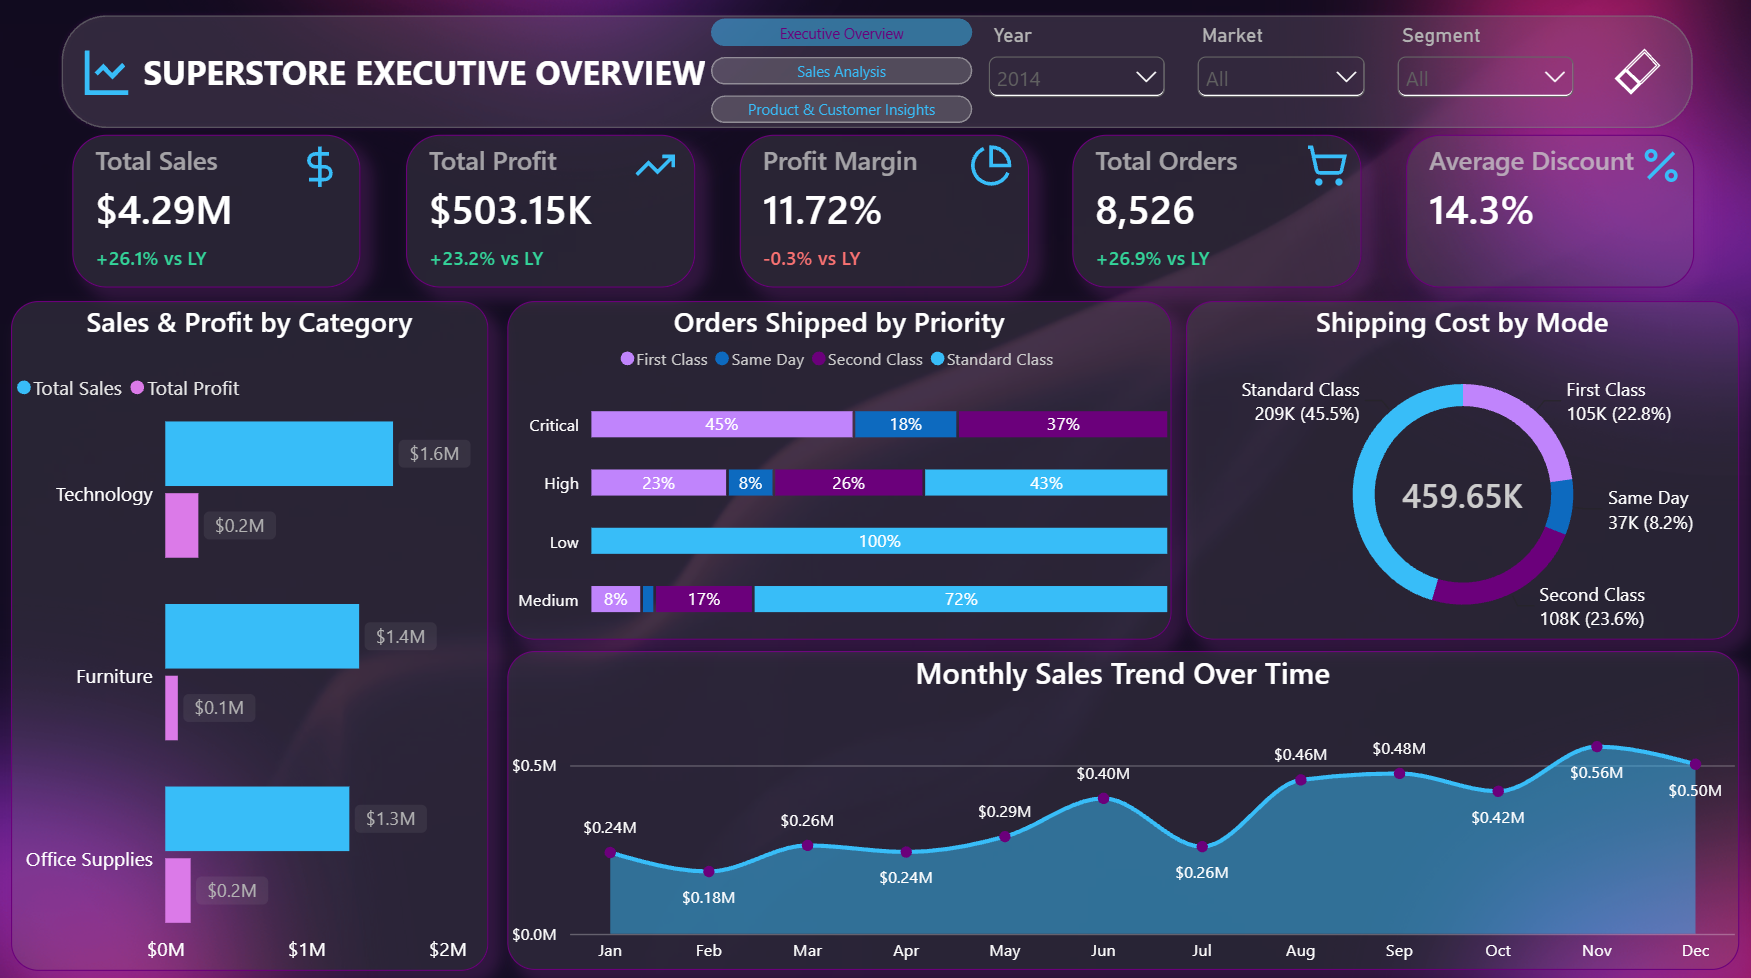

The page's visual inventory and layout, read from the dashboard file:
{"tool":"powerbi","page":{"name":"Executive Overview","canvas":[1280,720],"ordinal":0},"visuals":[{"type":"shape","box":[44.2,11,1192.6,88.3],"z":0},{"type":"cardVisual","fields":{"Data":["_Measures.Total Sales"]},"box":[55.7,100.9,209.2,111.1],"z":1000},{"type":"cardVisual","fields":{"Data":["_Measures.Total Profit"]},"box":[298.1,100.9,210.6,111.1],"z":2000},{"type":"cardVisual","fields":{"Data":["_Measures.Average Discount"]},"box":[1025.3,100.9,209.2,111.1],"z":3000},{"type":"cardVisual","fields":{"Data":["_Measures.Total Orders"]},"box":[782.9,100.9,210.6,111.1],"z":4000},{"type":"cardVisual","fields":{"Data":["_Measures.Profit Margin"]},"box":[540.5,100.9,210.6,111.1],"z":5000},{"type":"slicer","fields":{"Values":["Date_dim.Year"]},"box":[717.3,20.1,137.4,72.4],"z":6000},{"type":"slicer","fields":{"Values":["superstore_sales.market"]},"box":[868.8,20.1,131.3,72.4],"z":7000},{"type":"slicer","fields":{"Values":["superstore_sales.segment"]},"box":[1014.2,20.1,137.4,72.4],"z":8000},{"type":"areaChart","title":"Monthly Sales Trend Over Time","fields":{"Category":["Date_dim.Month Name"],"Y":["_Measures.Total Sales"]},"box":[371.8,476.1,895.7,231.9],"z":9000},{"type":"clusteredBarChart","title":"Sales & Profit by Category","fields":{"Category":["superstore_sales.category"],"Y":["_Measures.Total Sales","_Measures.Total Profit"]},"box":[11,222.1,347.2,487.1],"z":10000},{"type":"actionButton","box":[1163.2,28.2,60.7,54.9],"z":11000},{"type":"image","box":[57.7,34.4,47.9,40.5],"z":12000},{"type":"image","box":[216.4,107.9,38.3,31.7],"z":13000},{"type":"image","box":[460.3,107.7,38,31.9],"z":14000},{"type":"image","box":[704.2,107.7,38,31.9],"z":15000},{"type":"image","box":[948,107.7,38,31.9],"z":16000},{"type":"image","box":[1191.9,107.7,38,31.9],"z":17000},{"type":"hundredPercentStackedBarChart","title":"Orders Shipped by Priority","fields":{"Category":["superstore_sales.order_priority"],"Series":["superstore_sales.ship_mode"],"Y":["_Measures.Total Orders"]},"box":[371.8,222.1,483.4,246.6],"z":18000},{"type":"donutChart","title":"Shipping Cost by Mode","fields":{"Category":["superstore_sales.ship_mode"],"Y":["_Measures.Total Shipping Cost"]},"box":[865,222.1,402.5,246.6],"z":19000},{"type":"pageNavigator","box":[520.2,16,190.2,78.5],"z":20000}]}

Visuals, with their boxes in screenshot pixels (x1, y1, x2, y2), scaled from the page's 1280x720 canvas onto the 1751x978 screenshot:
shape: [60,15,1692,135]
cardVisual - _Measures.Total Sales: [76,137,362,288]
cardVisual - _Measures.Total Profit: [408,137,696,288]
cardVisual - _Measures.Average Discount: [1403,137,1689,288]
cardVisual - _Measures.Total Orders: [1071,137,1359,288]
cardVisual - _Measures.Profit Margin: [739,137,1027,288]
slicer - Date_dim.Year: [981,27,1169,126]
slicer - superstore_sales.market: [1188,27,1368,126]
slicer - superstore_sales.segment: [1387,27,1575,126]
"Monthly Sales Trend Over Time" areaChart: [509,647,1734,962]
"Sales & Profit by Category" clusteredBarChart: [15,302,490,963]
actionButton: [1591,38,1674,113]
image: [79,47,144,102]
image: [296,147,348,190]
image: [630,146,682,190]
image: [963,146,1015,190]
image: [1297,146,1349,190]
image: [1630,146,1682,190]
"Orders Shipped by Priority" hundredPercentStackedBarChart: [509,302,1170,637]
"Shipping Cost by Mode" donutChart: [1183,302,1734,637]
pageNavigator: [712,22,972,128]
